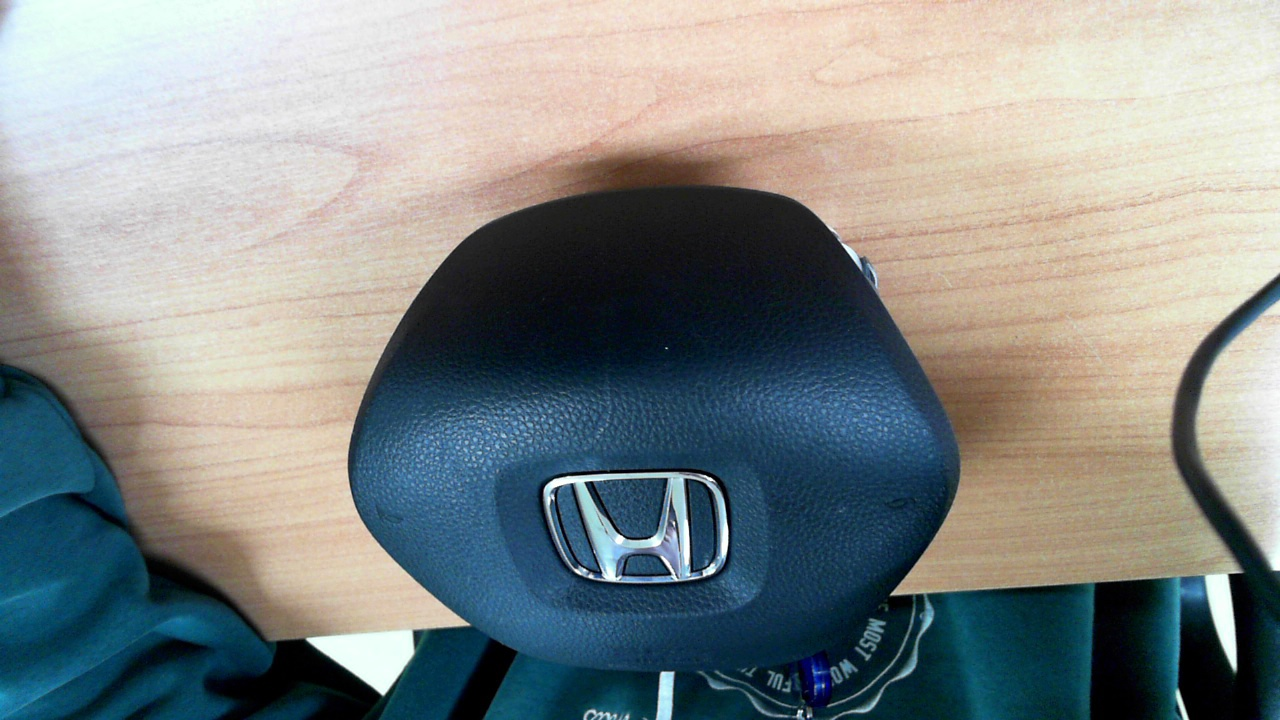Airbag: (347, 184, 962, 672)
Honda: (542, 471, 730, 584)
